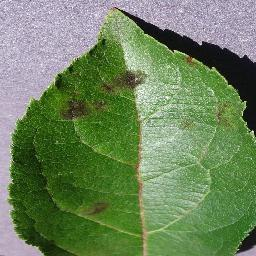apple healthy: (6, 6, 255, 255)
